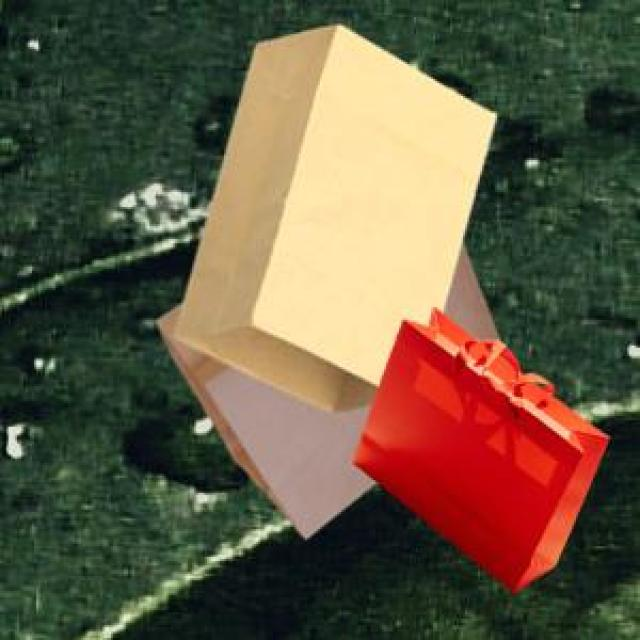PaperCardboard: (149, 23, 598, 584)
